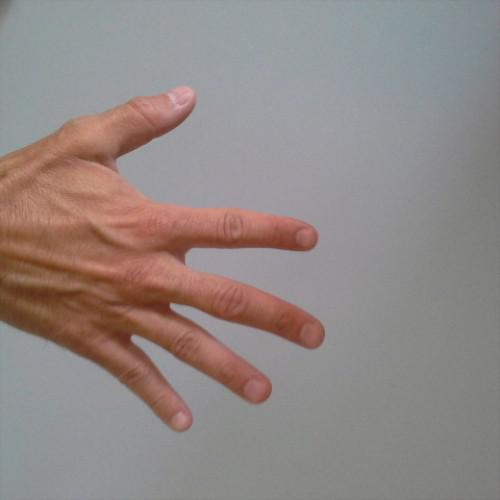paper: (1, 82, 328, 436)
